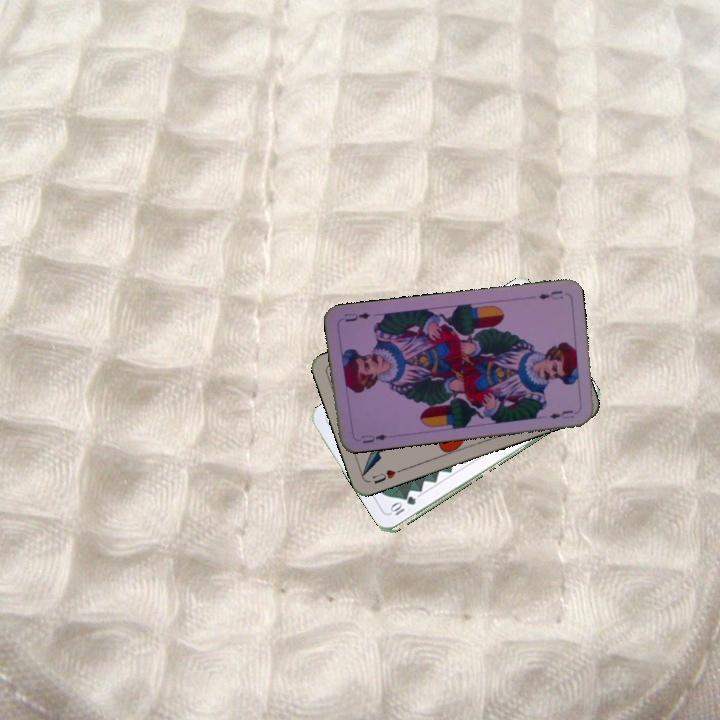EU: (358, 430, 389, 446), (534, 286, 565, 302)
G10: (387, 493, 418, 518)
HU: (368, 465, 406, 487)
